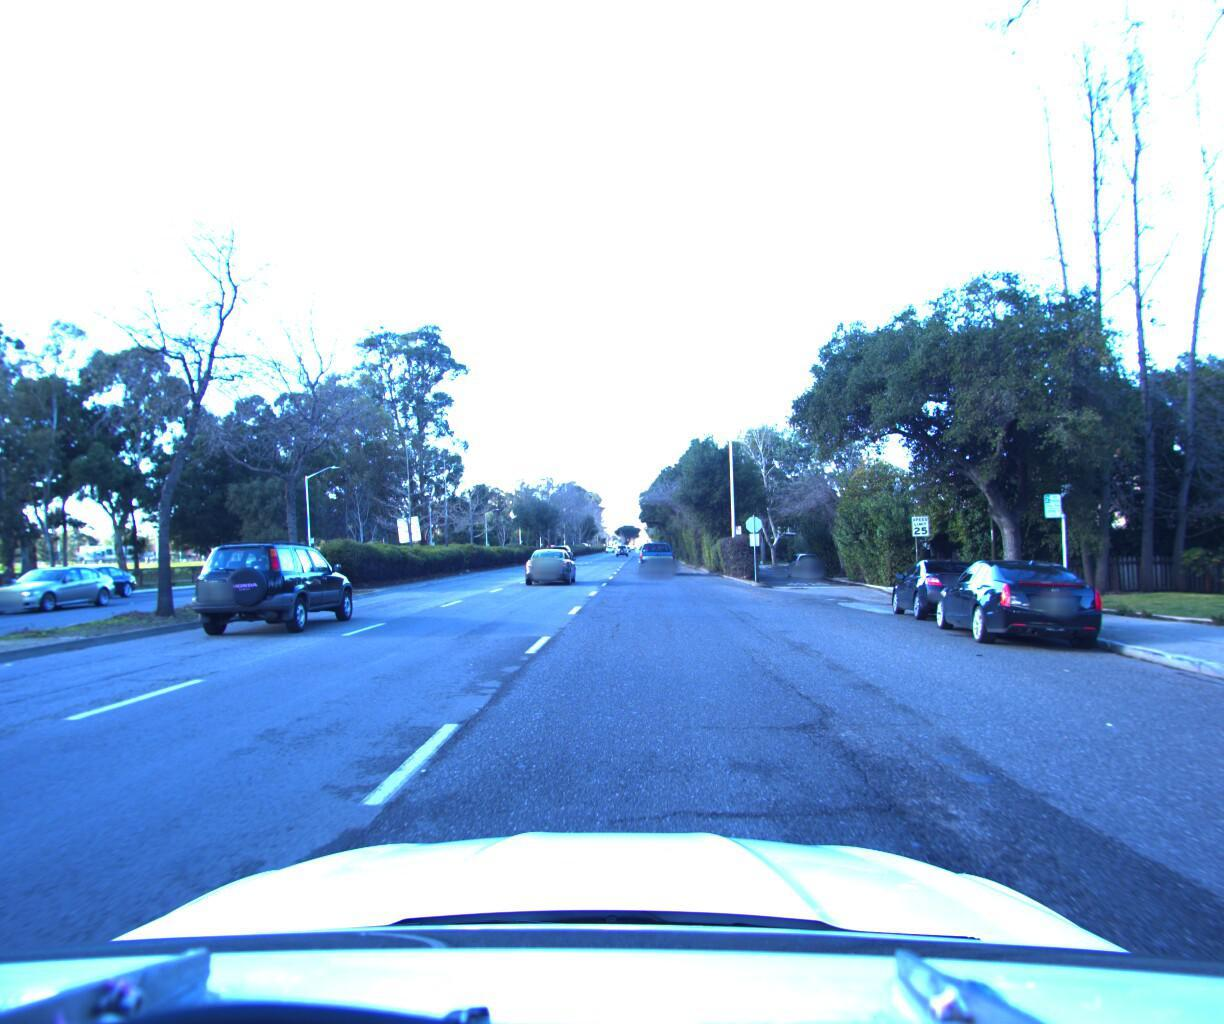car: (175, 524, 367, 640), (924, 549, 1118, 651), (884, 549, 1012, 623), (0, 561, 126, 616), (22, 563, 141, 607), (521, 542, 578, 582), (635, 534, 683, 571), (782, 546, 824, 573)
